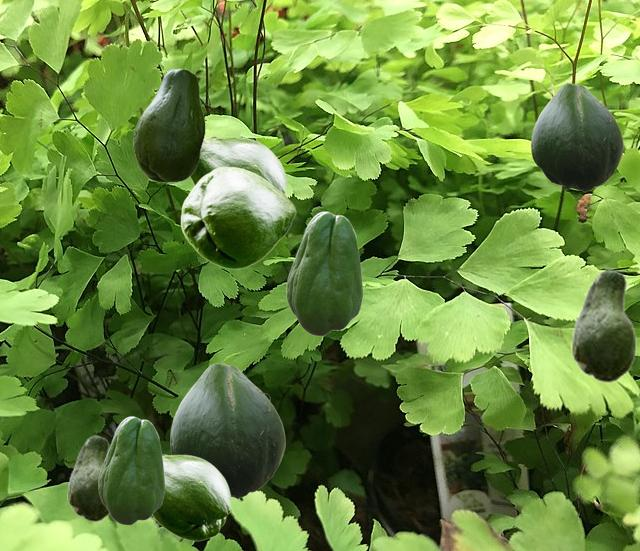sayote: (170, 363, 284, 498), (180, 166, 295, 268), (531, 83, 622, 191), (286, 211, 362, 335), (133, 68, 204, 181), (571, 269, 635, 382), (98, 416, 164, 524), (152, 454, 230, 540), (190, 136, 286, 194), (67, 435, 110, 521)
